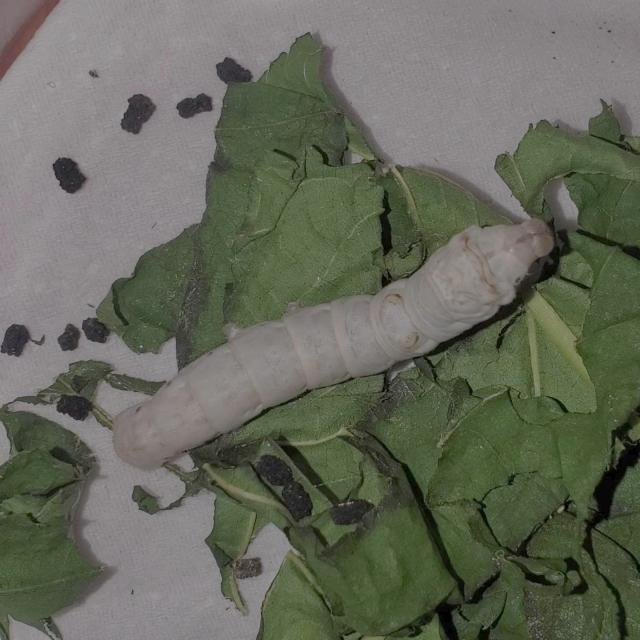Healthy: (100, 205, 568, 474)
